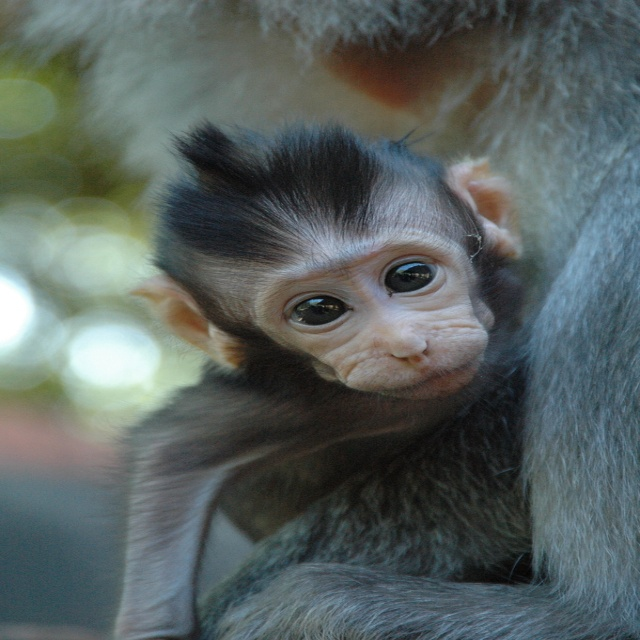Monkey: (40, 0, 639, 640)
